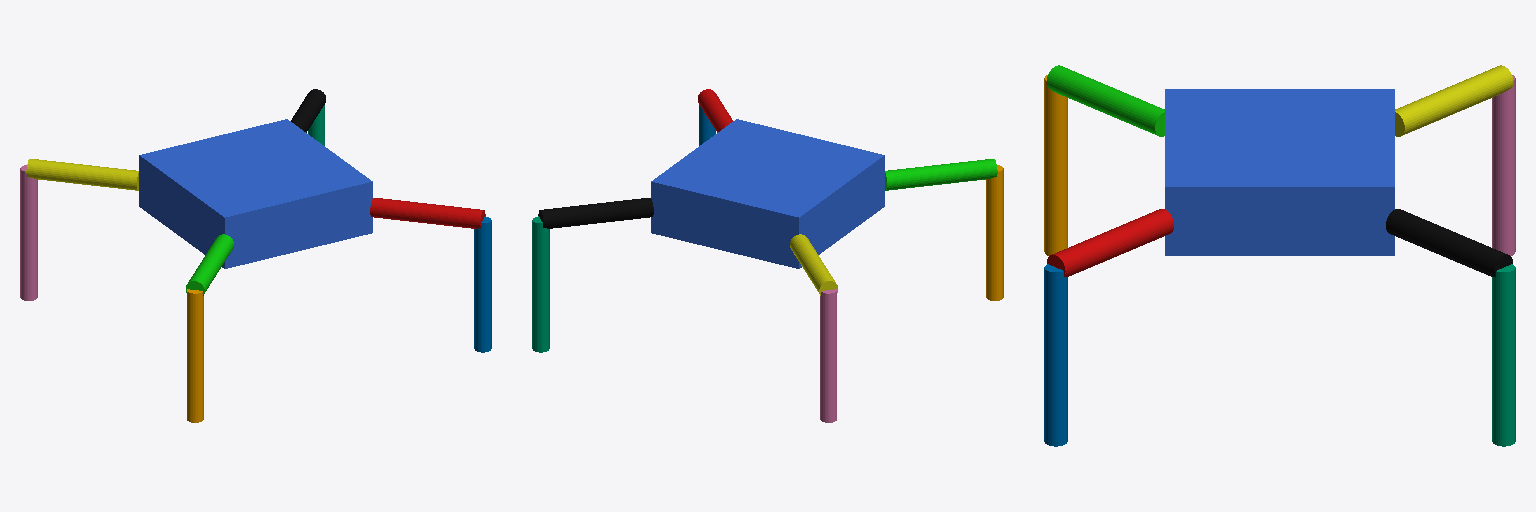
robot.urdf — spider:
<?xml version="1.0"?>
<robot name="spider">

  <link name="body">
    <visual>
      <geometry><box size="0.12 0.12 0.04"/></geometry>
      <material name="bd"><color rgba="0.25 0.45 0.85 1"/></material>
    </visual>
    <collision>
      <geometry><box size="0.12 0.12 0.04"/></geometry>
    </collision>
    <inertial>
      <mass value="0.5"/> <inertia ixx="1e-3" ixy="0" ixz="0" iyy="1e-3" iyz="0" izz="1e-3"/>
    </inertial>
  </link>

  <joint name="arm_a" type="revolute">
    <parent link="body"/><child link="arm_a"/>
    <origin xyz="0.06 0.06 0" rpy="0 0 0.7854"/>
    <axis xyz="0 0 1"/> <limit lower="-1.5708" upper="1.5708" effort="10" velocity="5"/>
  </joint>
  <link name="arm_a">
    <visual><origin xyz="0.04 0 0" rpy="0 1.5708 0"/> <geometry><cylinder radius="0.007" length="0.08"/></geometry>
      <material name="b"><color rgba="0.1 0.1 0.1 1"/></material></visual>
    <collision><origin xyz="0.04 0 0" rpy="0 1.5708 0"/>
      <geometry><cylinder radius="0.007" length="0.08"/></geometry></collision>
    <inertial><mass value="0.05"/><inertia ixx="1e-5" ixy="0" ixz="0" iyy="1e-5" iyz="0" izz="1e-5"/></inertial>
  </link>
  <joint name="foot_a" type="revolute">
    <parent link="arm_a"/><child link="foot_a"/>
    <origin xyz="0.08 0 0" rpy="0 0 0"/>
    <axis xyz="0 1 0"/>
    <limit lower="-1.5708" upper="1.5708" effort="10" velocity="5"/>
  </joint>
  <link name="foot_a">
    <visual><origin xyz="0 0 -0.05" rpy="0 0 0"/>
      <geometry><cylinder radius="0.006" length="0.10"/></geometry></visual>
    <collision><origin xyz="0 0 -0.05"/>
      <geometry><cylinder radius="0.006" length="0.10"/></geometry></collision>
    <inertial><mass value="0.03"/><inertia ixx="1e-5" ixy="0" ixz="0" iyy="1e-5" iyz="0" izz="1e-5"/></inertial>
  </link>

  <joint name="arm_b" type="revolute">
    <parent link="body"/><child link="arm_b"/>
    <origin xyz="0.06 -0.06 0" rpy="0 0 -0.7854"/>
    <axis xyz="0 0 1"/>
    <limit lower="-1.5708" upper="1.5708" effort="10" velocity="5"/>
  </joint>
  <link name="arm_b">
    <visual><origin xyz="0.04 0 0" rpy="0 1.5708 0"/>
      <geometry><cylinder radius="0.007" length="0.08"/></geometry>
      <material name="r"><color rgba="0.8 0.1 0.1 1"/></material></visual>
    <collision><origin xyz="0.04 0 0" rpy="0 1.5708 0"/>
      <geometry><cylinder radius="0.007" length="0.08"/></geometry></collision>
    <inertial><mass value="0.05"/><inertia ixx="1e-5" ixy="0" ixz="0" iyy="1e-5" iyz="0" izz="1e-5"/></inertial>
  </link>
  <joint name="foot_b" type="revolute">
    <parent link="arm_b"/><child link="foot_b"/>
    <origin xyz="0.08 0 0" rpy="0 0 0"/>
    <axis xyz="0 1 0"/>
    <limit lower="-1.5708" upper="1.5708" effort="10" velocity="5"/>
  </joint>
  <link name="foot_b">
    <visual><origin xyz="0 0 -0.05" rpy="0 0 0"/>
      <geometry><cylinder radius="0.006" length="0.10"/></geometry></visual>
    <collision><origin xyz="0 0 -0.05"/>
      <geometry><cylinder radius="0.006" length="0.10"/></geometry></collision>
    <inertial><mass value="0.03"/><inertia ixx="1e-5" ixy="0" ixz="0" iyy="1e-5" iyz="0" izz="1e-5"/></inertial>
  </link>

  <joint name="arm_c" type="revolute">
    <parent link="body"/><child link="arm_c"/>
    <origin xyz="-0.06 0.06 0" rpy="0 0 2.3562"/>
    <axis xyz="0 0 1"/>
    <limit lower="-1.5708" upper="1.5708" effort="10" velocity="5"/>
  </joint>
  <link name="arm_c">
    <visual><origin xyz="0.04 0 0" rpy="0 1.5708 0"/>
      <geometry><cylinder radius="0.007" length="0.08"/></geometry>
      <material name="y"><color rgba="0.8 0.8 0.1 1"/></material></visual>
    <collision><origin xyz="0.04 0 0" rpy="0 1.5708 0"/>
      <geometry><cylinder radius="0.007" length="0.08"/></geometry></collision>
    <inertial><mass value="0.05"/><inertia ixx="1e-5" ixy="0" ixz="0" iyy="1e-5" iyz="0" izz="1e-5"/></inertial>
  </link>
  <joint name="foot_c" type="revolute">
    <parent link="arm_c"/><child link="foot_c"/>
    <origin xyz="0.08 0 0" rpy="0 0 0"/>
    <axis xyz="0 1 0"/>
    <limit lower="-1.5708" upper="1.5708" effort="10" velocity="5"/>
  </joint>
  <link name="foot_c">
    <visual><origin xyz="0 0 -0.05" rpy="0 0 0"/>
      <geometry><cylinder radius="0.006" length="0.10"/></geometry></visual>
    <collision><origin xyz="0 0 -0.05"/>
      <geometry><cylinder radius="0.006" length="0.10"/></geometry></collision>
    <inertial><mass value="0.03"/><inertia ixx="1e-5" ixy="0" ixz="0" iyy="1e-5" iyz="0" izz="1e-5"/></inertial>
  </link>

  <joint name="arm_d" type="revolute">
    <parent link="body"/><child link="arm_d"/>
    <origin xyz="-0.06 -0.06 0" rpy="0 0 -2.3562"/>
    <axis xyz="0 0 1"/>
    <limit lower="-1.5708" upper="1.5708" effort="10" velocity="5"/>
  </joint>
  <link name="arm_d">
    <visual><origin xyz="0.04 0 0" rpy="0 1.5708 0"/>
      <geometry><cylinder radius="0.007" length="0.08"/></geometry>
      <material name="g"><color rgba="0.1 0.8 0.1 1"/></material></visual>
    <collision><origin xyz="0.04 0 0" rpy="0 1.5708 0"/>
      <geometry><cylinder radius="0.007" length="0.08"/></geometry></collision>
    <inertial><mass value="0.05"/><inertia ixx="1e-5" ixy="0" ixz="0" iyy="1e-5" iyz="0" izz="1e-5"/></inertial>
  </link>
  <joint name="foot_d" type="revolute">
    <parent link="arm_d"/><child link="foot_d"/>
    <origin xyz="0.08 0 0" rpy="0 0 0"/>
    <axis xyz="0 1 0"/>
    <limit lower="-1.5708" upper="1.5708" effort="10" velocity="5"/>
  </joint>
  <link name="foot_d">
    <visual><origin xyz="0 0 -0.05" rpy="0 0 0"/>
      <geometry><cylinder radius="0.006" length="0.10"/></geometry></visual>
    <collision><origin xyz="0 0 -0.05"/>
      <geometry><cylinder radius="0.006" length="0.10"/></geometry></collision>
    <inertial><mass value="0.03"/><inertia ixx="1e-5" ixy="0" ixz="0" iyy="1e-5" iyz="0" izz="1e-5"/></inertial>
  </link>

</robot>

--- Facts derived from the render (not from the file) ---
Views: 3 orthographic renders of the robot side by side, from view 1: azimuth 30°, elevation 25°; view 2: azimuth 150°, elevation 25°; view 3: azimuth 270°, elevation 25°.
Model spider with 9 links and 8 joints (8 revolute), rooted at body, posed all joints at 0.
Visible links, largest first — view 1: body, foot_b, foot_c, arm_b, foot_d, arm_c, arm_d, arm_a; view 2: body, foot_a, foot_d, arm_a, foot_c, arm_d, arm_c, arm_b; view 3: body, foot_a, foot_b, foot_c, foot_d, arm_a, arm_b, arm_c, arm_d.
Link boxes in pixels (x1,y1,x2,y2): body: [139, 119, 372, 268]; foot_b: [474, 216, 491, 352]; foot_c: [20, 165, 37, 300]; arm_b: [370, 198, 485, 228]; foot_d: [187, 289, 203, 422]; arm_c: [26, 159, 138, 190]; arm_d: [186, 234, 233, 295]; arm_a: [291, 89, 325, 132]; body: [651, 119, 884, 268]; foot_a: [532, 216, 549, 352]; foot_d: [986, 165, 1003, 300]; arm_a: [538, 198, 653, 228]; foot_c: [820, 289, 836, 422]; arm_d: [885, 159, 997, 190]; arm_c: [790, 234, 837, 295]; arm_b: [698, 89, 732, 132]; body: [1165, 89, 1394, 255]; foot_a: [1492, 264, 1515, 446]; foot_b: [1044, 264, 1067, 446]; foot_c: [1492, 75, 1515, 255]; foot_d: [1044, 75, 1067, 255]; arm_a: [1386, 209, 1512, 276]; arm_b: [1047, 209, 1173, 276]; arm_c: [1395, 65, 1512, 136]; arm_d: [1047, 65, 1164, 136].
Bounding box of the posed robot: 0.2451 × 0.2451 × 0.12 m (x, y, z).
Geometry: primitives only (box / cylinder / sphere), no mesh files.
